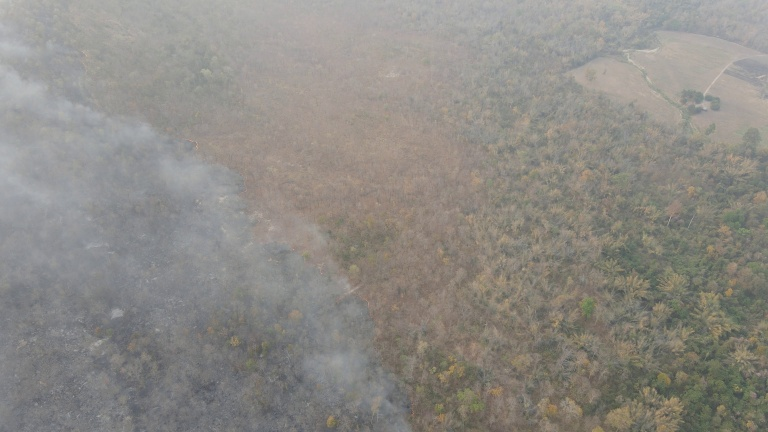smoke: (1, 39, 416, 432)
